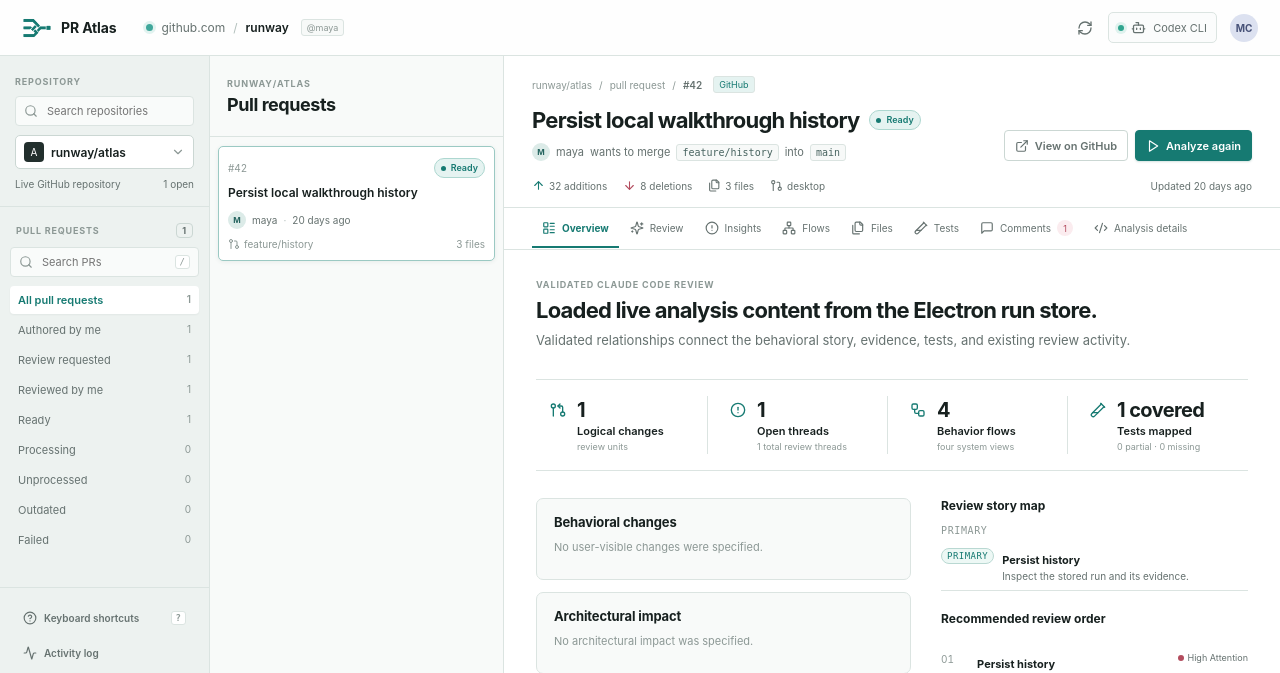
Test: live Electron renderer contract › renders secondary, accessible run usage for reported, estimated, unavailable, and legacy manifests
What coordinates should you click on to do the following:
click the button "Analysis details"
I would click on:
 (1141, 229)
Its box is [1084,209,1197,248].
(page scrolled)
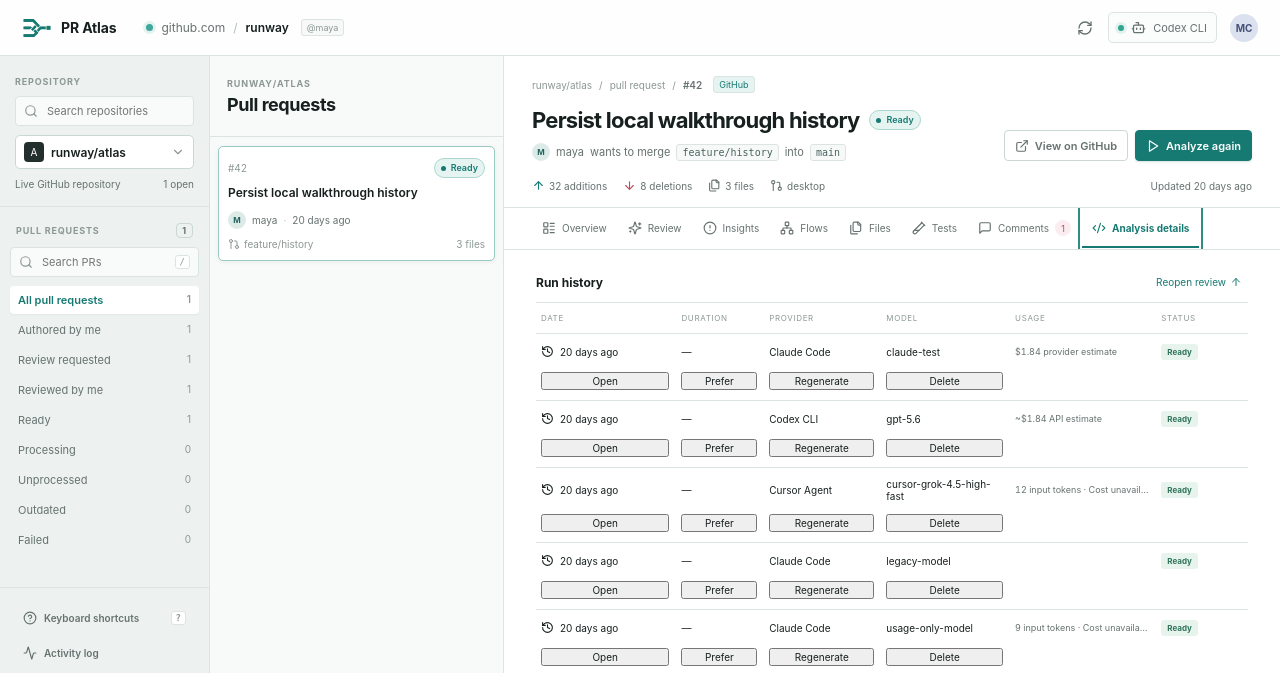
expect the text "Usage" is shown: met, box [1015,312,1045,322]
expect the text named "Provider-reported cost estimate; billing may differ." reads "$1.84 provider estimate": met, box [1015,346,1117,357]
expect the text named "API-equivalent estimate from OpenAI API pricing" reads "~$1.84 API estimate": met, box [1015,413,1102,424]
